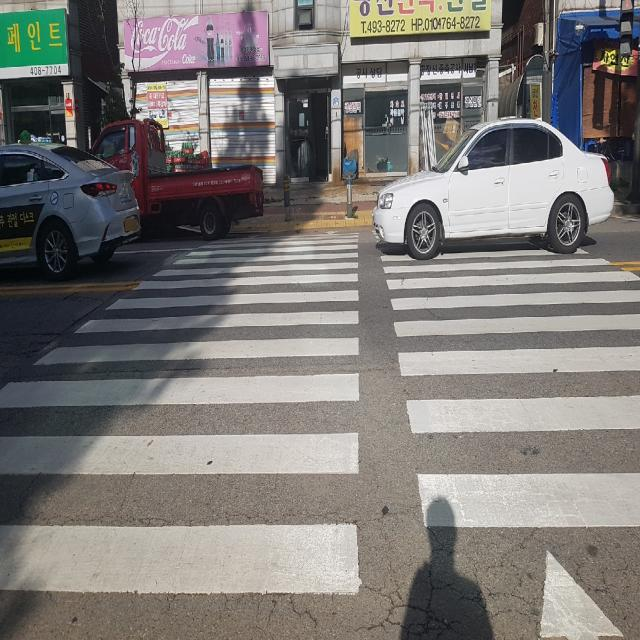횡단보도: (0, 226, 640, 640)
